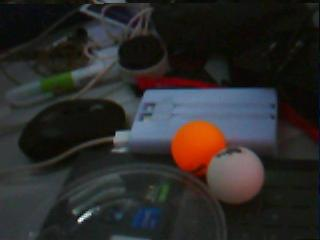oball: (170, 121, 224, 174)
